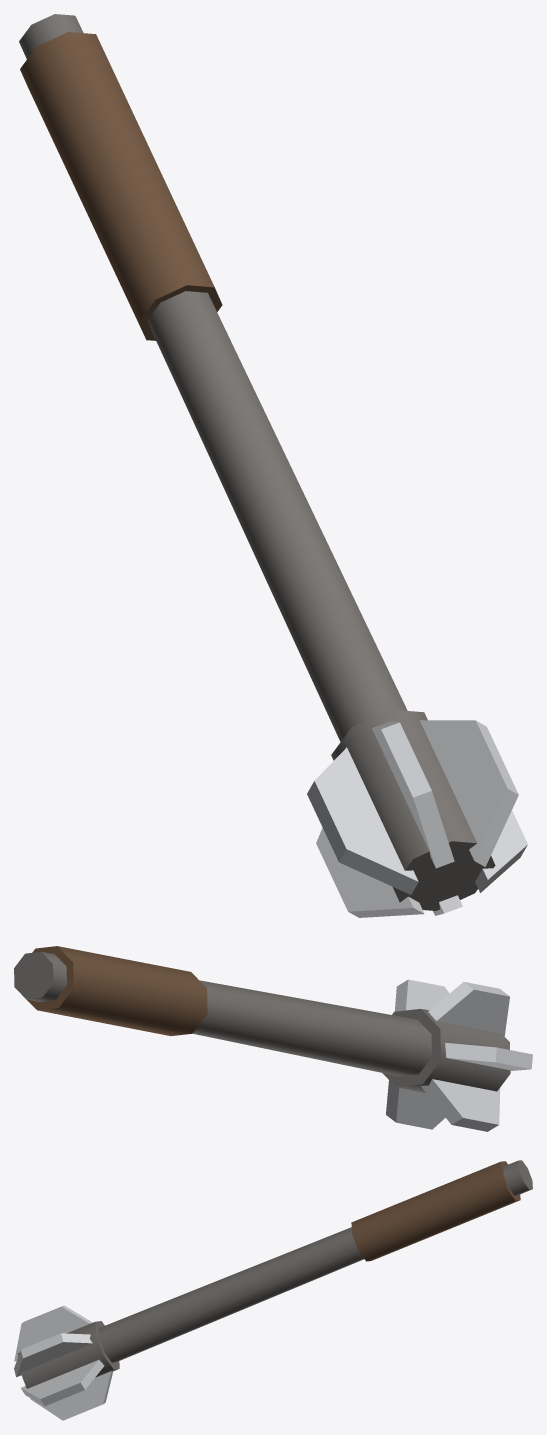
File: wpn_mace.glb
3 views of the same model, one above another, from view 1: azimuth 30°, elevation 25°; view 2: azimuth 150°, elevation 25°; view 3: azimuth 270°, elevation 25° (orthographic). The views are drawn at different scales.
Parts seen in each view (by area): view 1: wpn_mace; view 2: wpn_mace; view 3: wpn_mace.
Boxes of the visible parts, bbox=[...] form: wpn_mace: bbox=[19, 14, 527, 917]; wpn_mace: bbox=[14, 946, 532, 1131]; wpn_mace: bbox=[14, 1160, 532, 1420].
Bounding box in the file's own units: 0.0776 × 0.1814 × 0.3087.
